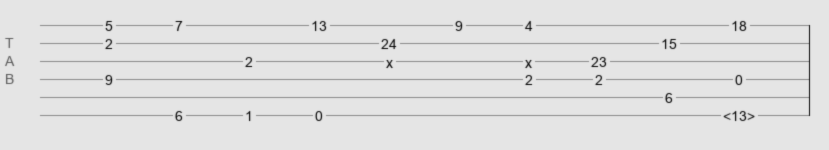0: (315, 108, 323, 118), (735, 72, 743, 82)
1: (245, 108, 253, 118)
13: (311, 18, 327, 28)
15: (661, 36, 677, 46)
18: (731, 18, 747, 28)
2: (105, 36, 113, 46), (245, 54, 253, 64), (525, 72, 533, 82), (595, 72, 603, 82)
23: (591, 54, 607, 64)
24: (381, 36, 397, 46)
4: (525, 18, 533, 28)
5: (105, 18, 113, 28)
6: (175, 108, 183, 118), (665, 90, 673, 100)
7: (175, 18, 183, 28)
9: (105, 72, 113, 82), (455, 18, 463, 28)
harmonic: (723, 108, 755, 118)
x: (386, 55, 393, 63), (525, 55, 532, 63)
